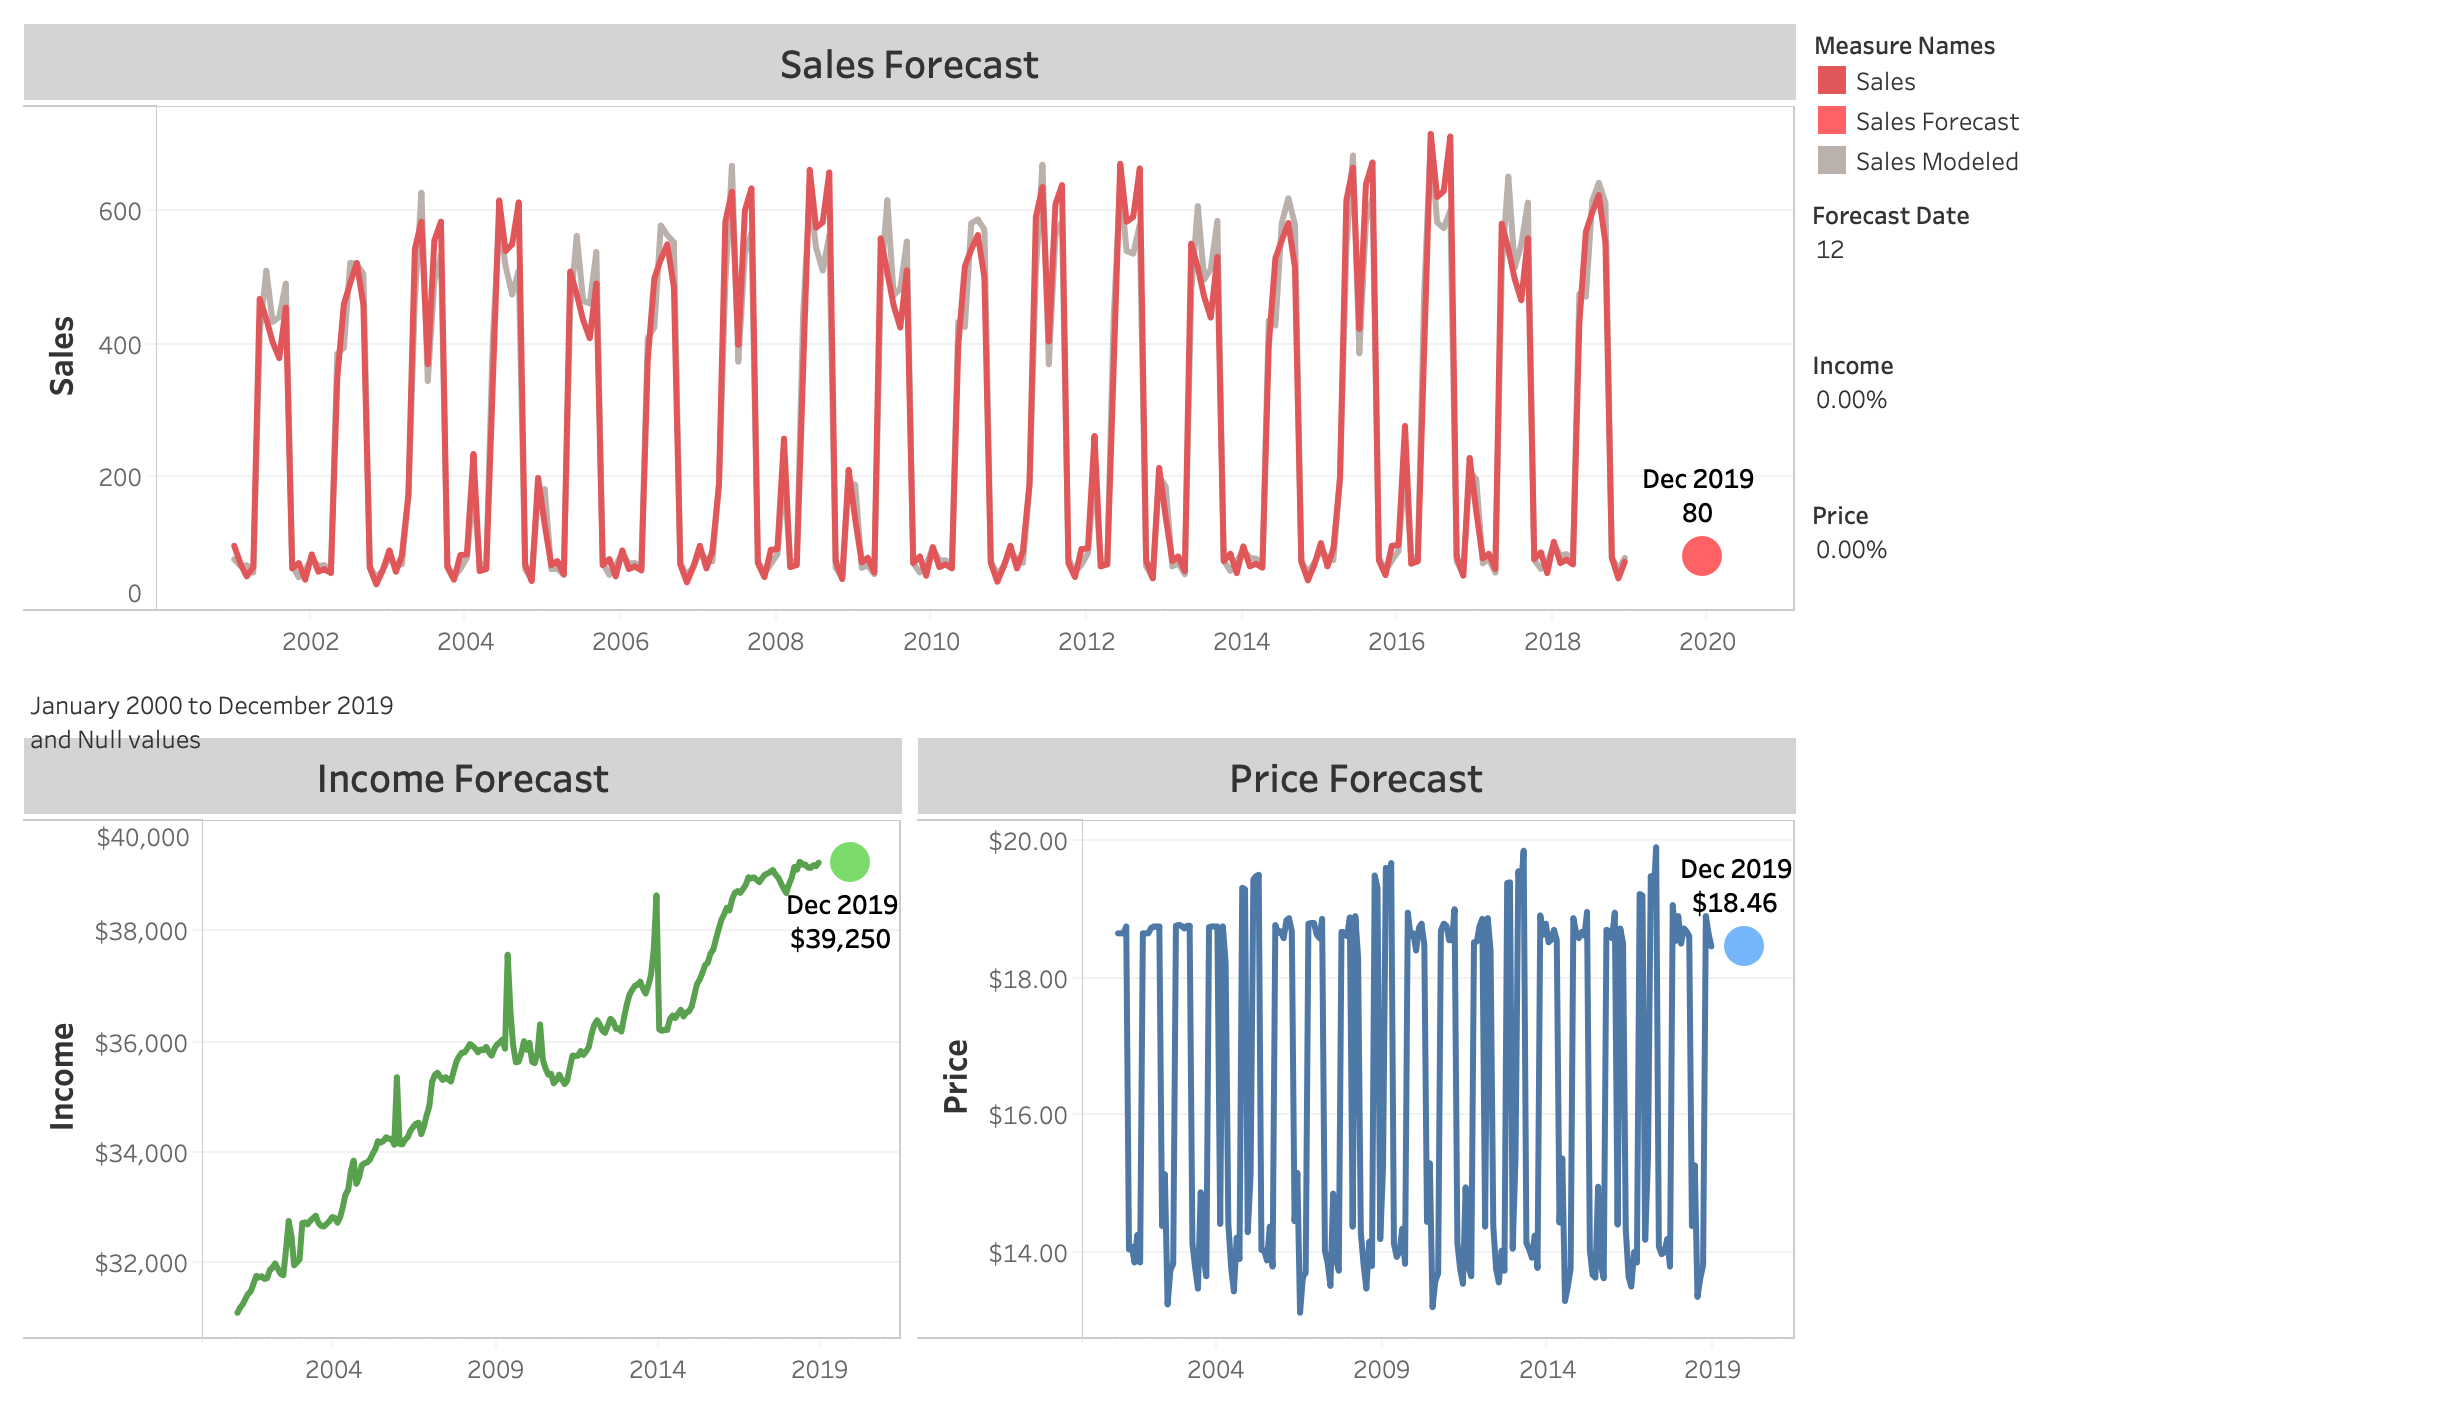

Layout of this report page (visuals, bound fields, positions):
{"tool":"tableau","page":{"name":"Sales Forecast Dashboard","canvas":[1000,1000],"units":"permille","ordinal":0},"visuals":[{"type":"worksheet","title":"Sales Forecast","mark":"Circle","rows":["Calculation_505810571087310849"],"cols":["Date"],"box":[2.2,4,907.7,472.5]},{"type":"legend","title":"Sales Forecast","param":"[federated.0xxgkhx127yfbj1ehkqbf0pwnkgv].[:Measure Names]","box":[909.9,4,87.9,43.3]},{"type":"parameter","param":"[Parameters].[Parameter 1]","box":[909.9,47.4,87.9,37.8]},{"type":"parameter","param":"[Parameters].[Price (copy)]","box":[909.9,85.2,87.9,37.8]},{"type":"parameter","param":"[Parameters].[Parameter 2]","box":[909.9,123,87.9,37.8]},{"type":"filter","title":"Sales Forecast","param":"[federated.0xxgkhx127yfbj1ehkqbf0pwnkgv].[tmn:Date:qk]","box":[2.2,476.5,907.7,36.3]},{"type":"worksheet","title":"Income Forecast","mark":"Automatic","rows":["Calculation_505810571086704640","Income"],"cols":["Date"],"box":[2.2,512.8,453.9,483.2]},{"type":"worksheet","title":"Price Forecast","mark":"Automatic","rows":["Sales_Forecast (copy)","Price"],"cols":["Date"],"box":[456.1,512.8,453.9,483.2]}]}

Visuals, with their boxes on the dashboard's canvas, which has no fixed pixel size, in thousandths of its width and height (x1, y1, x2, y2). These are canvas units, not pixel positions in the 2458x1424 screenshot, which may show the page scaled, cropped or inside an application window:
"Sales Forecast" worksheet (Circle marks): Rect(2, 4, 910, 476)
"Sales Forecast" legend: Rect(910, 4, 998, 47)
parameter: Rect(910, 47, 998, 85)
parameter: Rect(910, 85, 998, 123)
parameter: Rect(910, 123, 998, 161)
"Sales Forecast" filter: Rect(2, 476, 910, 513)
"Income Forecast" worksheet: Rect(2, 513, 456, 996)
"Price Forecast" worksheet: Rect(456, 513, 910, 996)
